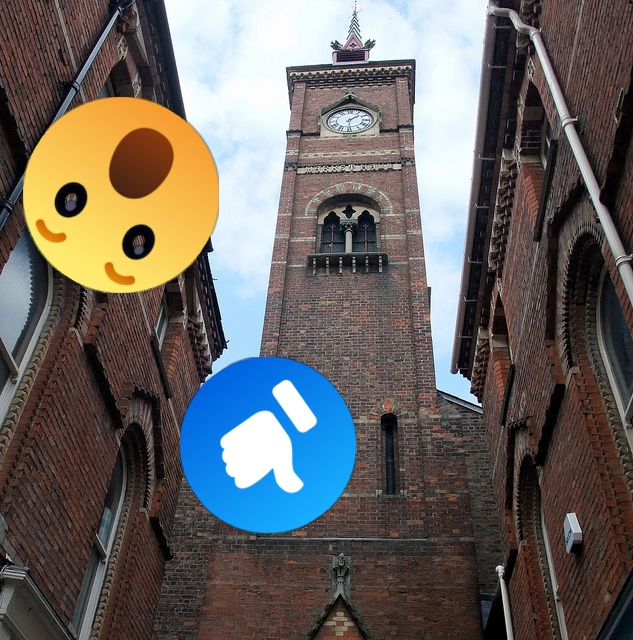like: (180, 357, 356, 533)
wow: (23, 97, 219, 293)
